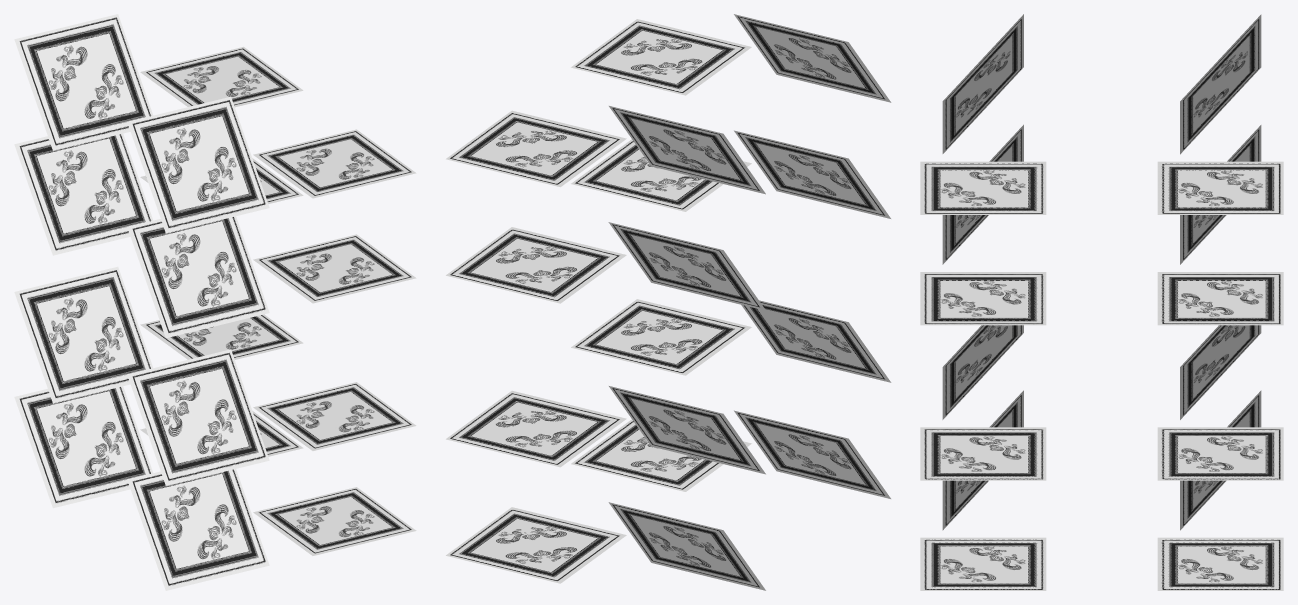
File: guppi-ultimate-mariano.dae
3 renders of one model, left to right at view 1: azimuth 30°, elevation 25°; view 2: azimuth 150°, elevation 25°; view 3: azimuth 270°, elevation 25°, orthographic. The views are drawn at different scales.
Visible parts, largest first — view 1: fularino_01 (×16); view 2: fularino_01 (×16); view 3: fularino_01 (×16).
Part boxes in pixels (x1,y1,x2,y2): fularino_01 (×16): [14, 14, 416, 590]; fularino_01 (×16): [446, 14, 891, 590]; fularino_01 (×16): [920, 14, 1283, 590].
Size of the model in its own units: 925 by 1622 by 1153.
Materials: 1 (1 with a texture image).
